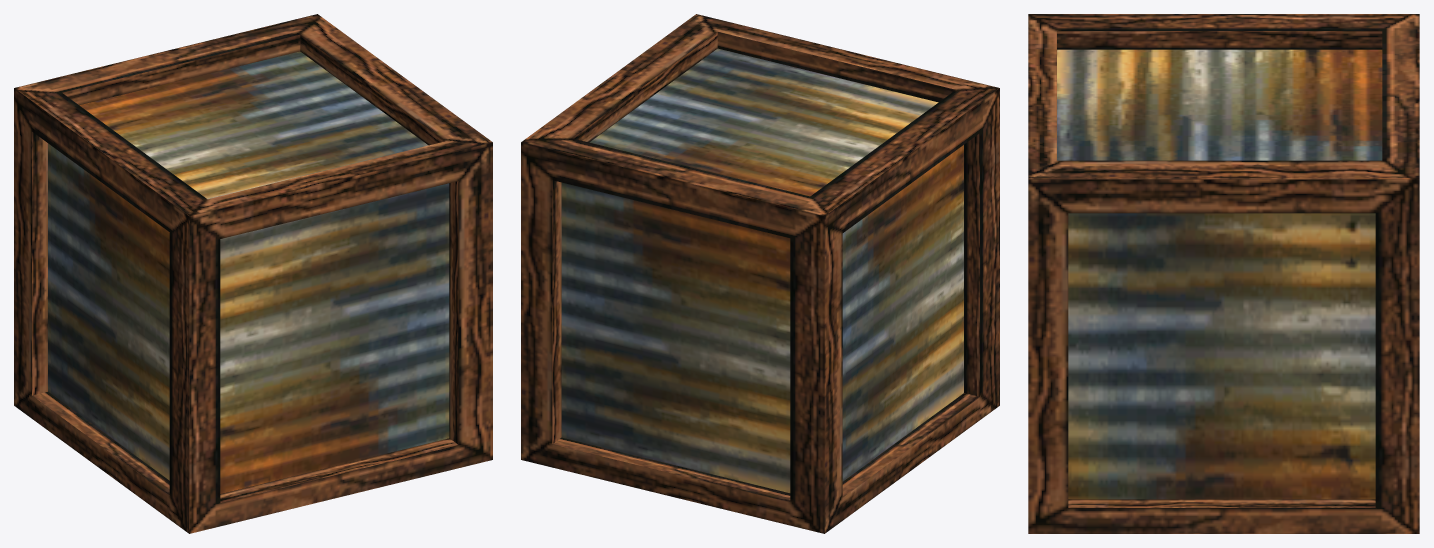
Rendered from LVL_RIV_INST_CRATEA.obj.
3 views of the same model, side by side, from view 1: azimuth 30°, elevation 25°; view 2: azimuth 150°, elevation 25°; view 3: azimuth 270°, elevation 25° (orthographic). The views are drawn at different scales.
Visible parts, largest first — view 1: riv_inst_crateA; view 2: riv_inst_crateA; view 3: riv_inst_crateA.
Part boxes in pixels (<box>): riv_inst_crateA: <box>14,14,492,533</box>; riv_inst_crateA: <box>521,14,999,533</box>; riv_inst_crateA: <box>1028,14,1419,533</box>.
Bounding box in the file's own units: 127 × 127 × 127.
